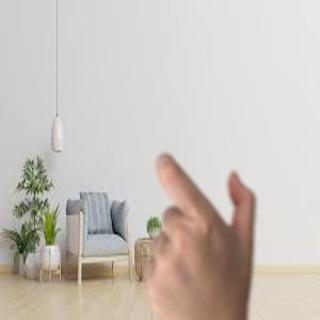Irritated: (126, 151, 262, 313)
